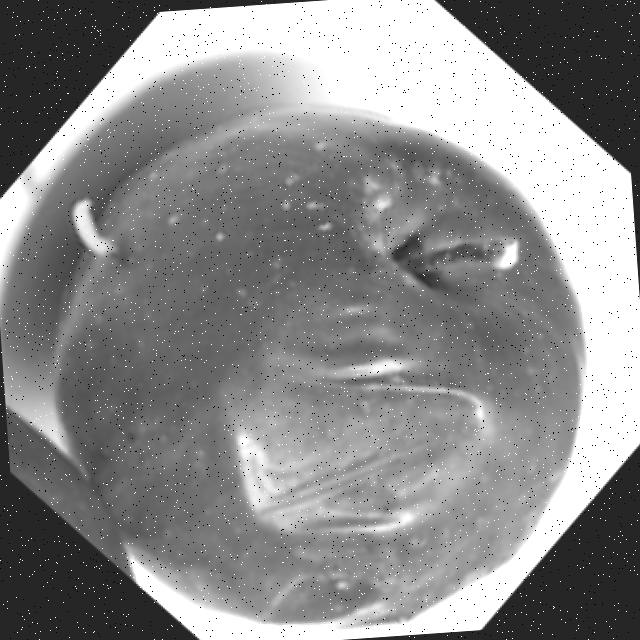Rotten: (24, 71, 611, 640)
